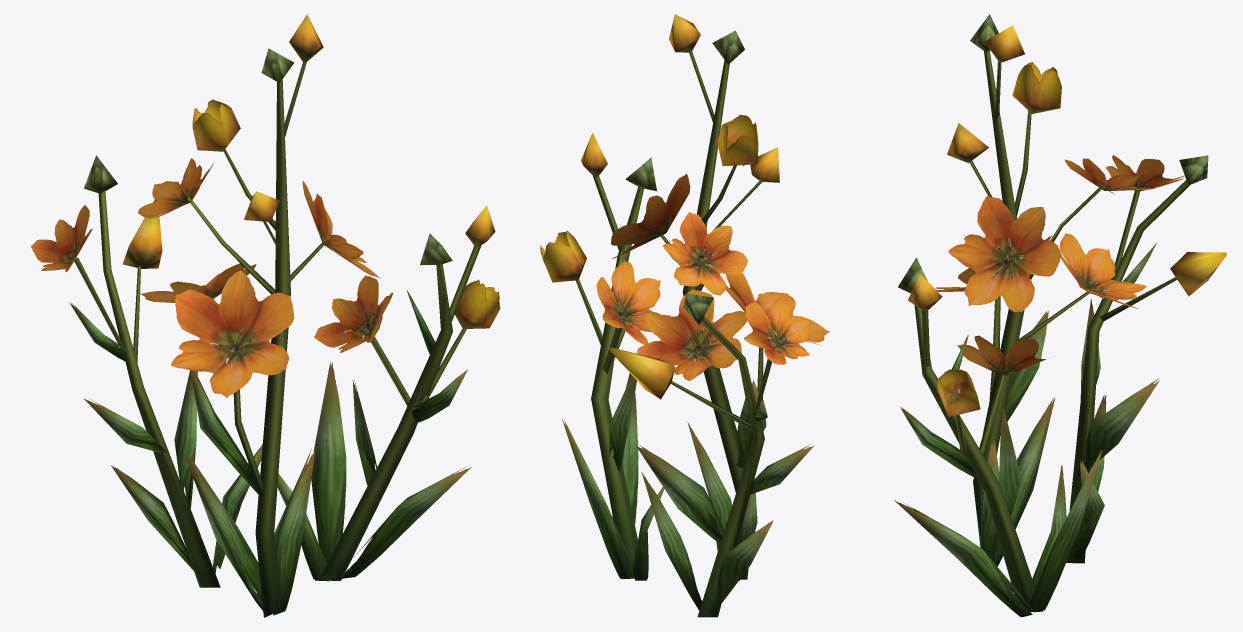
Rendered from wm_灌木杜宾花.fbx.
3 renders of one model, left to right at view 1: azimuth 30°, elevation 25°; view 2: azimuth 150°, elevation 25°; view 3: azimuth 270°, elevation 25°, orthographic. The views are drawn at different scales.
Visible parts, largest first — view 1: wm_灌木杜宾花; view 2: wm_灌木杜宾花; view 3: wm_灌木杜宾花.
Part boxes in pixels (x1,y1,x2,y2): wm_灌木杜宾花: [31, 14, 500, 617]; wm_灌木杜宾花: [540, 14, 829, 617]; wm_灌木杜宾花: [894, 14, 1226, 617].
Bounding box in the file's own units: 137 × 201 × 111.
